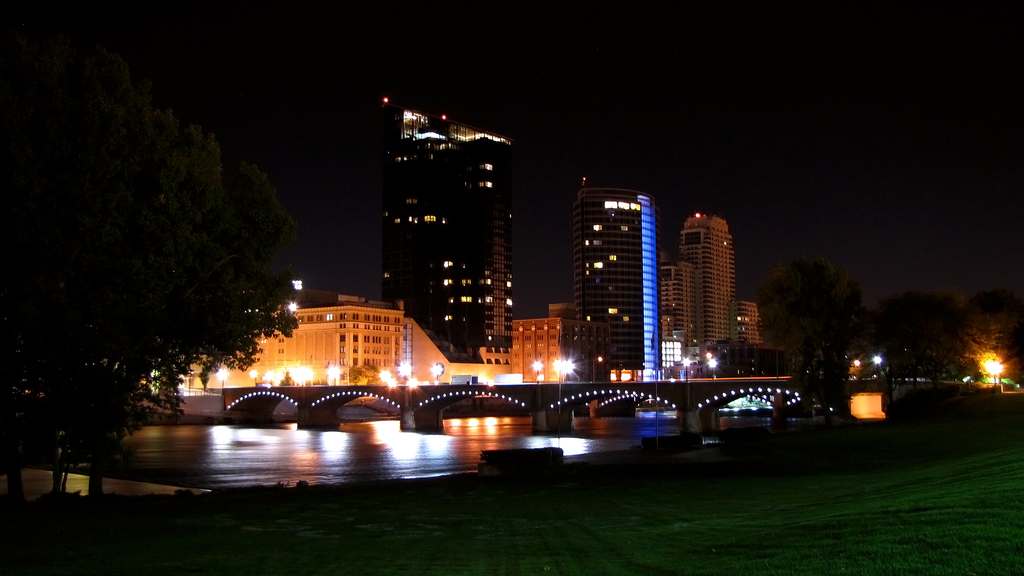Tree: (0, 32, 296, 494), (755, 257, 1023, 376)
